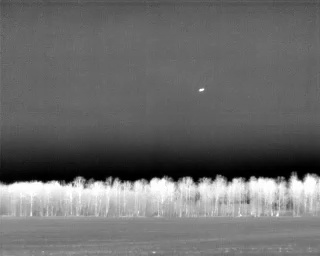DRONE: (195, 84, 208, 96)
